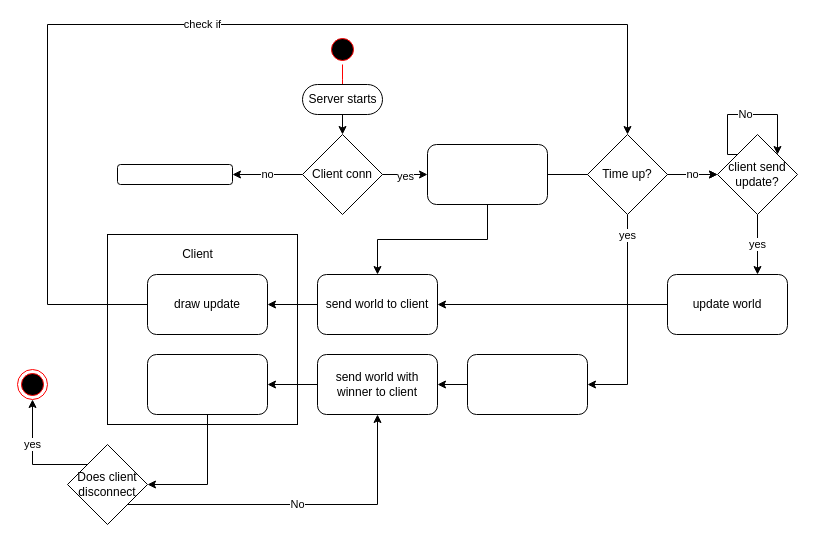
Some shapes in this 815 by 542 pixel diagram are drawn without their labels. The shapes that lost their labels are listed below. From the top down, each one's centre as x and y in pixels, then its label:
point 174,174: Server wait
point 487,174: create threaded_client
point 207,384: draw scores
point 527,384: update world with winner
